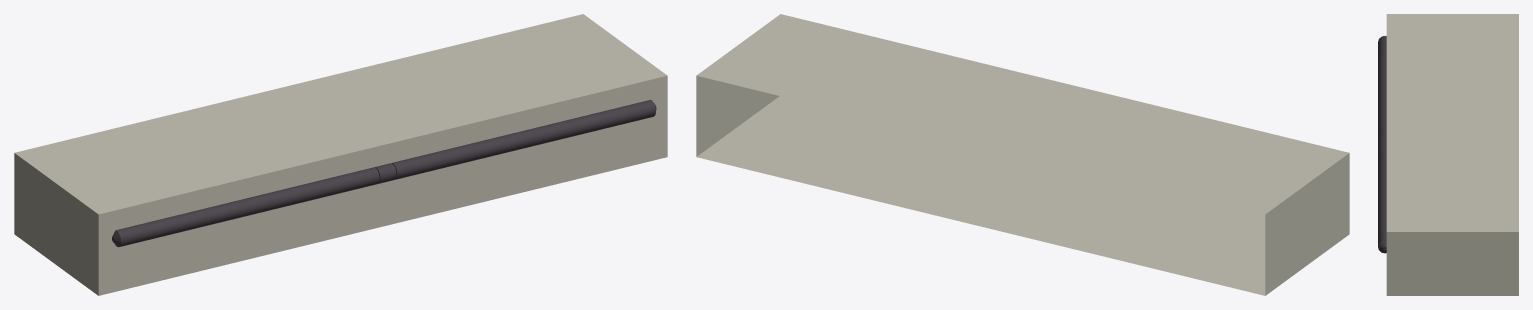
Rendered from SM_wall_extension_01.fbx.
3 views of the same model, side by side, from view 1: azimuth 30°, elevation 25°; view 2: azimuth 150°, elevation 25°; view 3: azimuth 270°, elevation 25° (orthographic). The views are drawn at different scales.
Parts seen in each view (by area): view 1: wall_extension_01; view 2: wall_extension_01; view 3: wall_extension_01.
Boxes of the visible parts, bbox=[...] form: wall_extension_01: bbox=[14, 14, 667, 295]; wall_extension_01: bbox=[696, 14, 1349, 295]; wall_extension_01: bbox=[1378, 14, 1518, 295].
Bounding box in the file's own units: 200 × 27.37 × 54.64.
